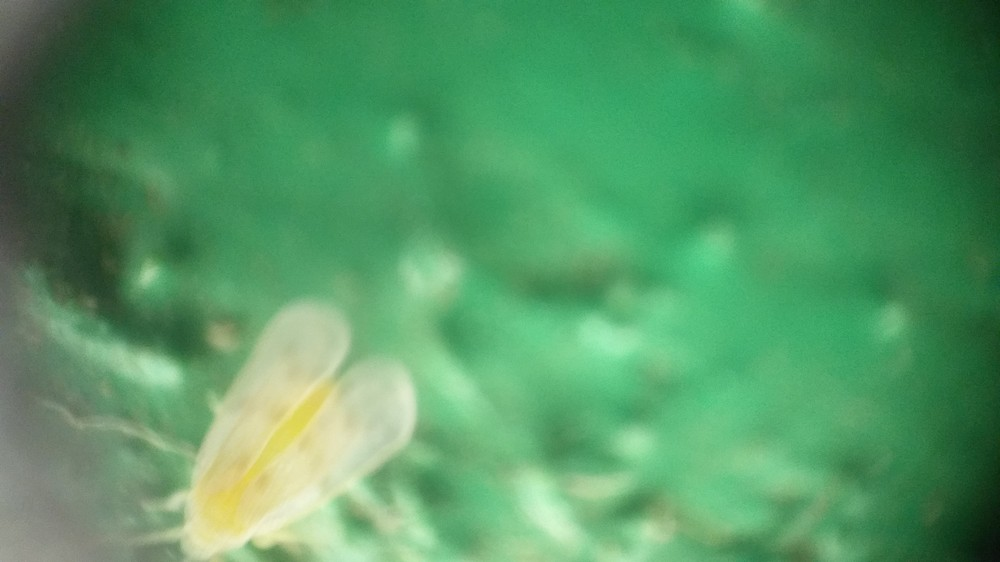Mosca Blanca: (122, 296, 449, 562)
